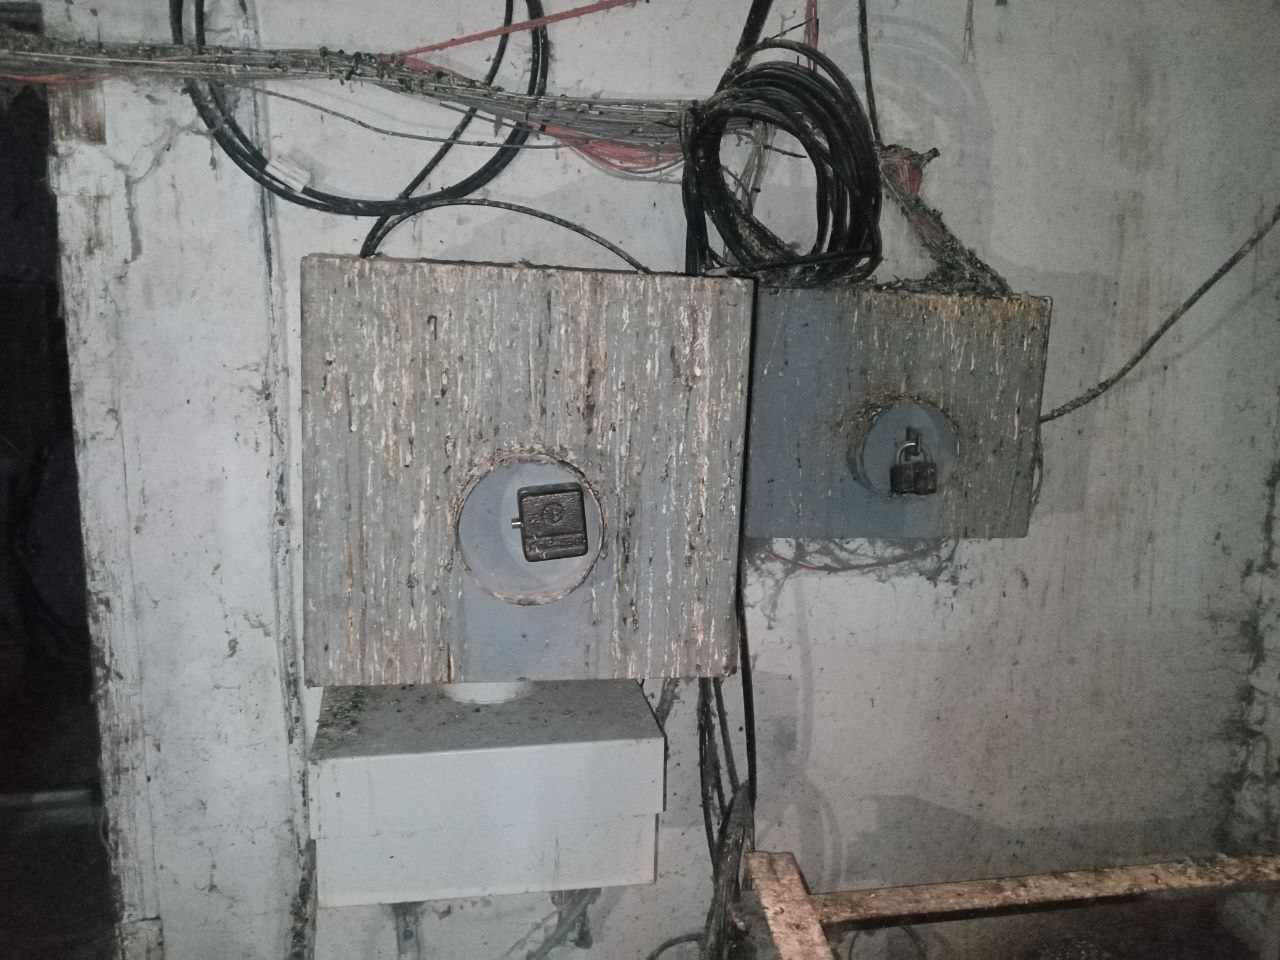shta-3: (731, 269, 1056, 552)
shta-9: (287, 245, 756, 686)
shta-ps: (291, 676, 675, 913)
